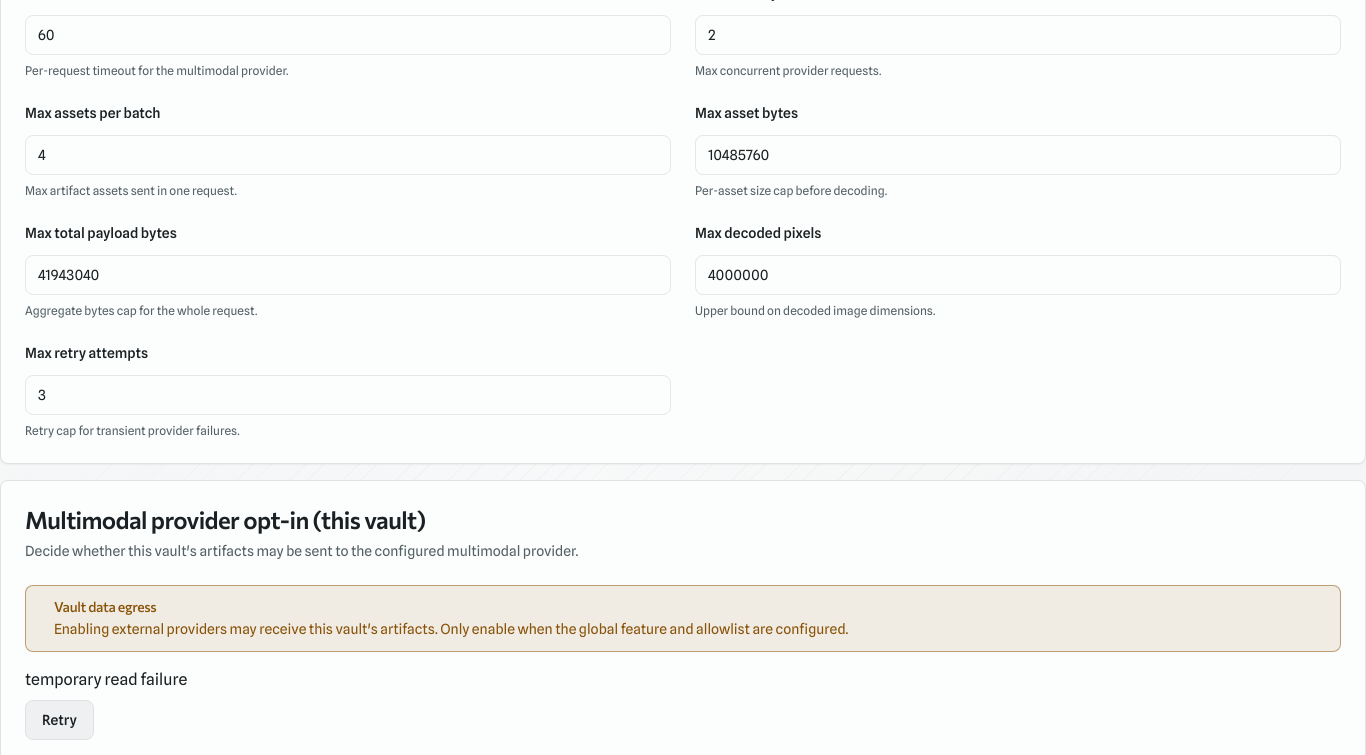
Scenario: ModelsTab issue #774 read outcomes › renders the authoritative null result after a Retry
The image size is (1366, 755).
(page scrolled)
Check: the text "temporary read failure Retry" is shown, box [25, 670, 187, 740]
Click the button "Retry".
click(59, 720)  # box [25, 700, 94, 740]
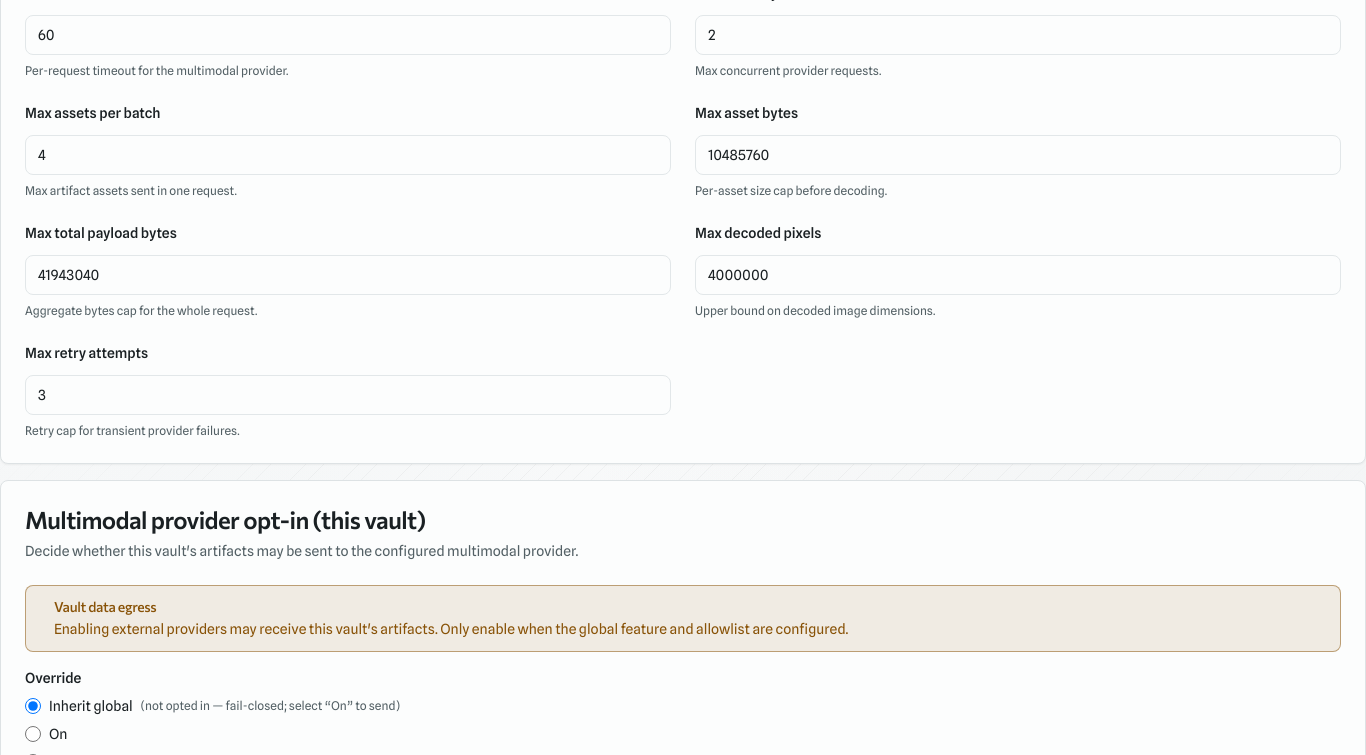
Check: the 1st radio button is checked, box [25, 698, 41, 714]
